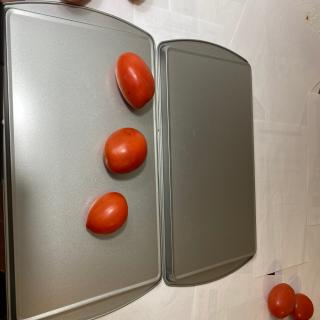Tomato: (115, 52, 155, 109), (102, 127, 148, 174), (86, 192, 128, 235), (268, 283, 296, 318), (291, 293, 314, 320)
